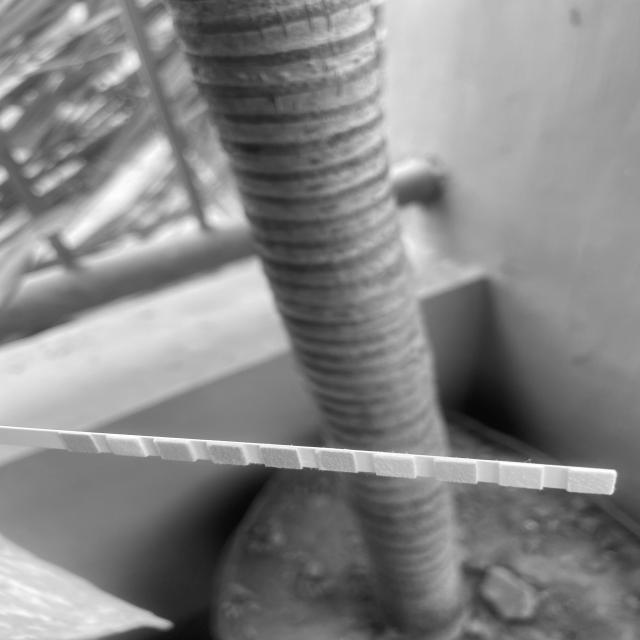Bilirubin: (116, 439, 136, 454)
Blood: (267, 450, 294, 466)
Glucose: (71, 435, 90, 451)
Ketone: (165, 443, 184, 459)
Leukocytes: (570, 474, 612, 492)
Nitrite: (501, 468, 541, 485)
Protein: (380, 459, 411, 475)
SpGravity: (215, 446, 238, 464)
Urobilinogen: (438, 465, 475, 479)
background: (0, 0, 640, 640)
pH: (322, 454, 350, 470)
strip: (0, 427, 617, 493)
